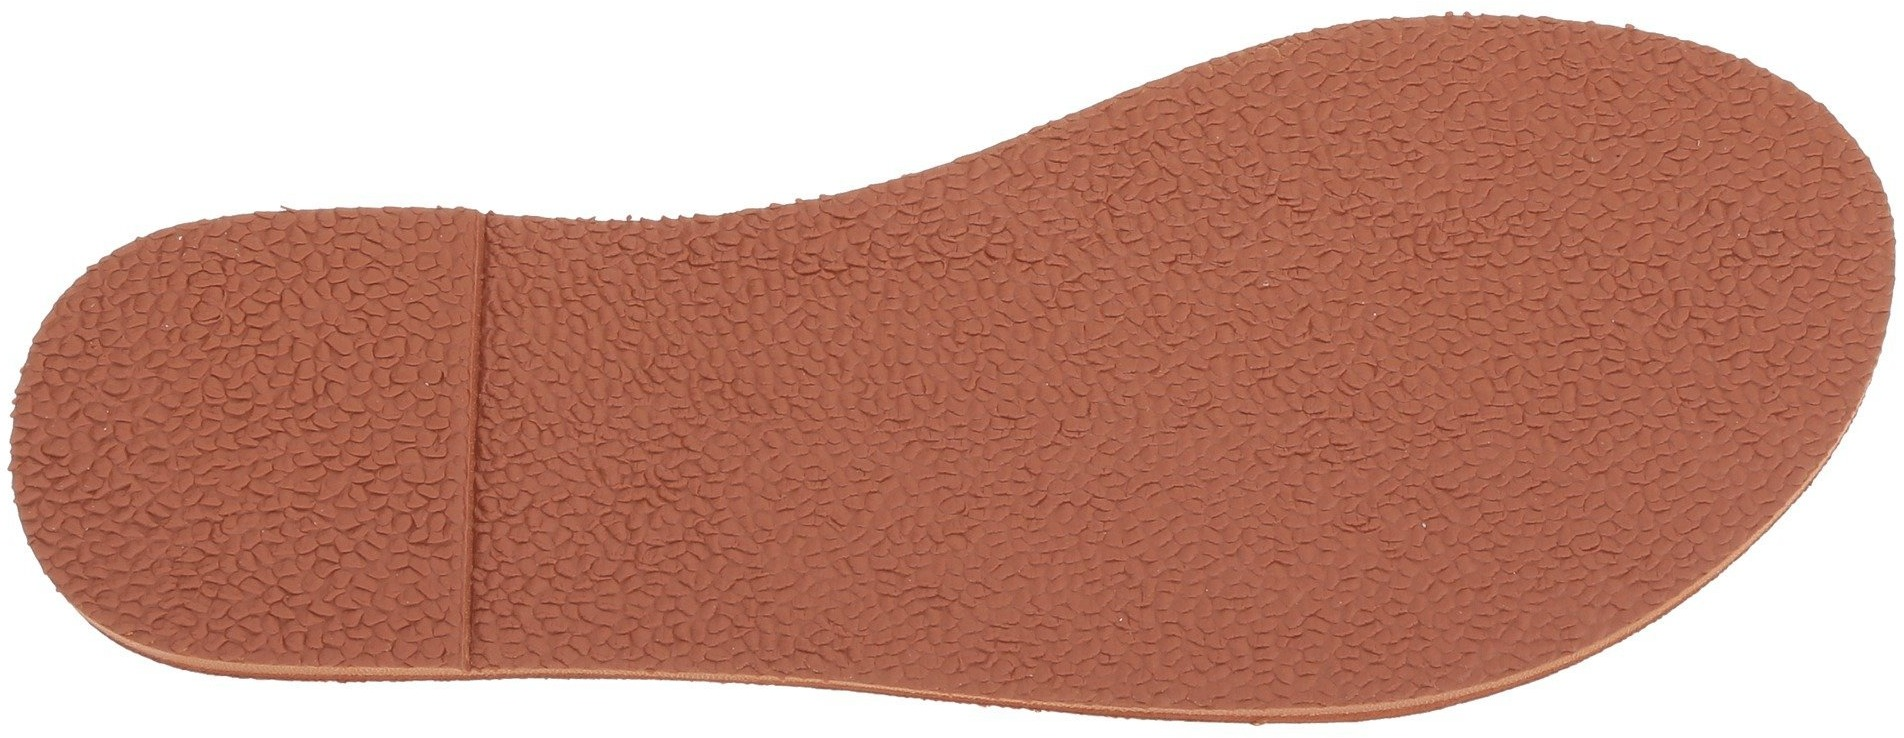other: (1228, 58, 1627, 425), (495, 246, 841, 596), (851, 200, 1217, 526), (97, 285, 425, 604), (1222, 426, 1508, 682), (1639, 188, 1861, 401), (1056, 526, 1219, 683)
